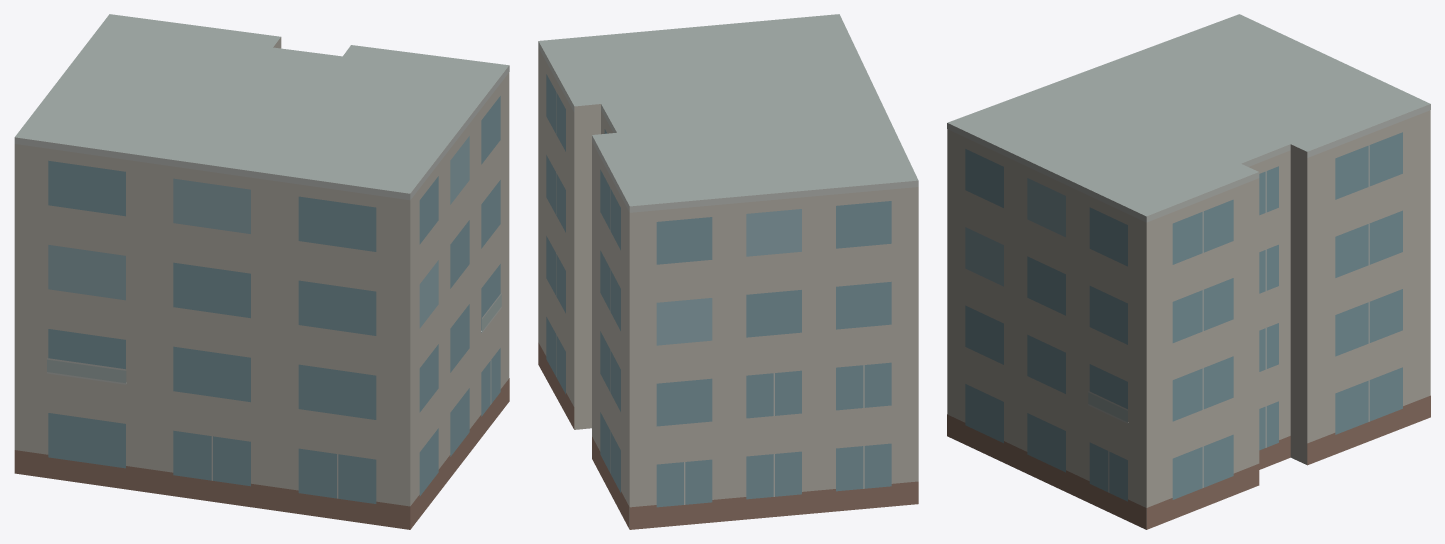
File: survey-upis-32806285.glb
3 renders of one model, left to right at view 1: azimuth 30°, elevation 25°; view 2: azimuth 150°, elevation 25°; view 3: azimuth 270°, elevation 25°, orthographic. The views are drawn at different scales.
Parts seen in each view (by area): view 1: survey-upis-32806285.tmp; view 2: survey-upis-32806285.tmp; view 3: survey-upis-32806285.tmp.
Boxes of the visible parts, bbox=[...] form: survey-upis-32806285.tmp: bbox=[14, 14, 509, 529]; survey-upis-32806285.tmp: bbox=[538, 14, 918, 529]; survey-upis-32806285.tmp: bbox=[947, 14, 1430, 529].
Bounding box in the file's own units: 17.19 × 12.4 × 17.35.
